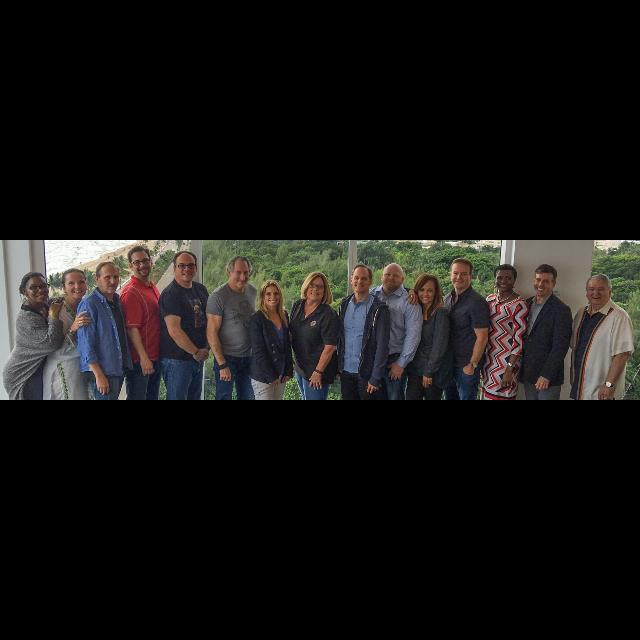head: (18, 271, 50, 305), (94, 262, 120, 296), (586, 274, 612, 306), (533, 264, 559, 296), (128, 247, 154, 279), (62, 268, 88, 300), (174, 251, 198, 283), (228, 256, 250, 290), (451, 258, 474, 290), (381, 262, 405, 292), (304, 271, 328, 301), (494, 264, 518, 292), (416, 275, 438, 305), (351, 264, 374, 292), (262, 280, 282, 308)
